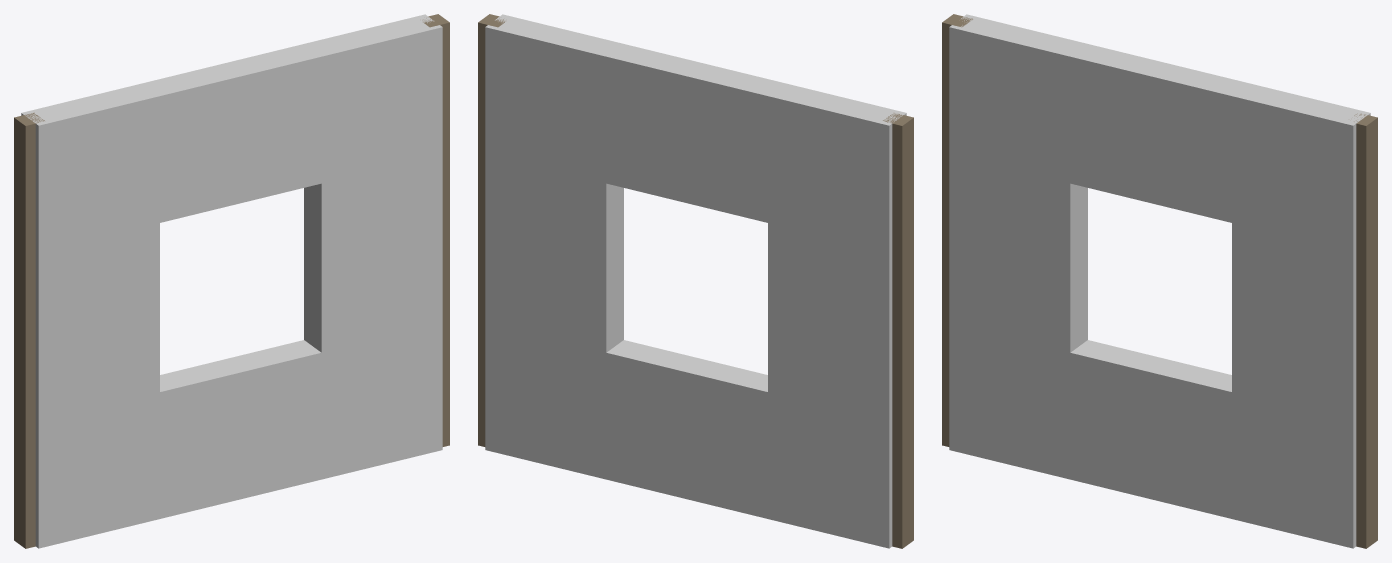
The model's file is wall_wood_window.glb.
3 renders of one model, left to right at view 1: azimuth 30°, elevation 25°; view 2: azimuth 150°, elevation 25°; view 3: azimuth 330°, elevation 25°, orthographic.
Visible parts, largest first — view 1: wall_wood_window; view 2: wall_wood_window; view 3: wall_wood_window.
Part boxes in pixels (box(x1,y1,x2,y2)): wall_wood_window: box(14, 14, 449, 548); wall_wood_window: box(478, 14, 913, 548); wall_wood_window: box(942, 14, 1377, 548).
Size of the model in its own units: 2.1 by 2 by 0.15.
